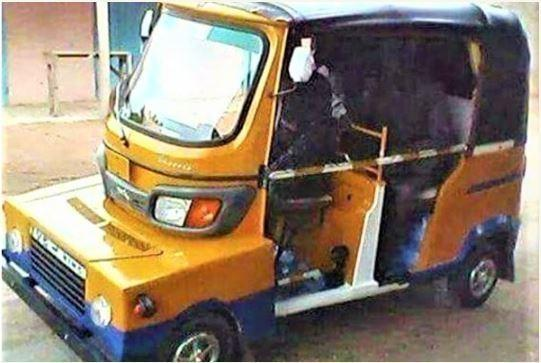keke: (75, 1, 536, 354)
